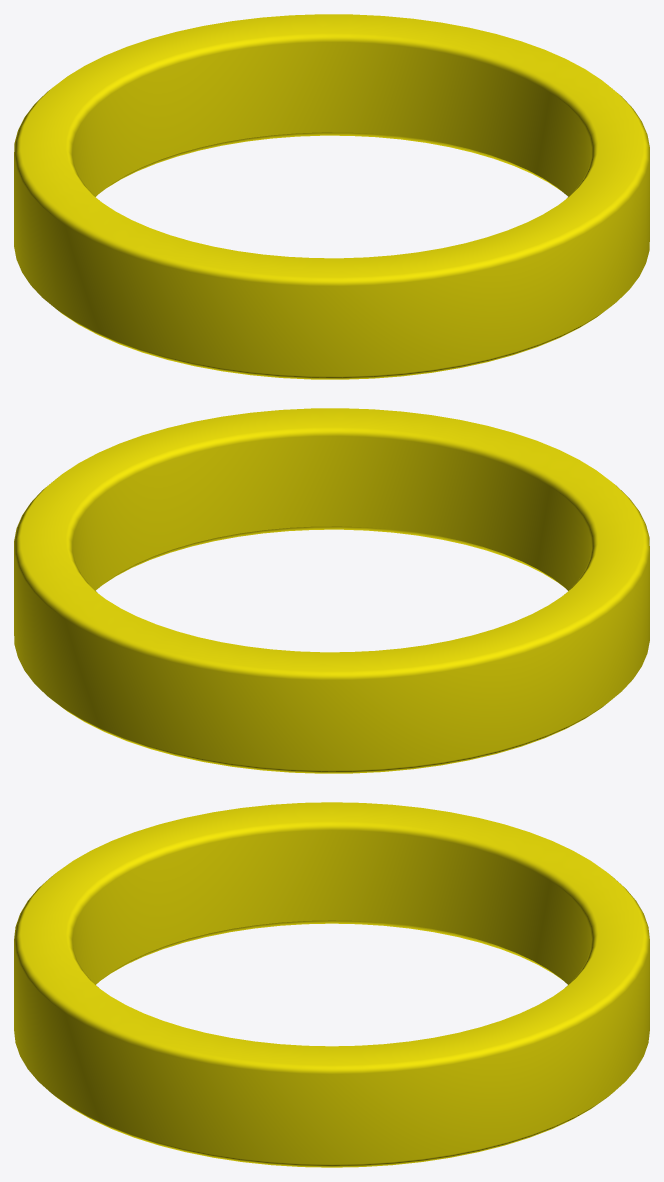
3 renders of one model, top to bottom at view 1: azimuth 30°, elevation 25°; view 2: azimuth 150°, elevation 25°; view 3: azimuth 270°, elevation 25°, orthographic.
Visible parts, largest first — view 1: seal_body; view 2: seal_body; view 3: seal_body.
Part boxes in pixels (x1=…): seal_body: x1=14, y1=14, x2=649, y2=379; seal_body: x1=14, y1=408, x2=649, y2=773; seal_body: x1=14, y1=802, x2=649, y2=1167.
Size of the model in its own units: 0.038 by 0.00675 by 0.038.
